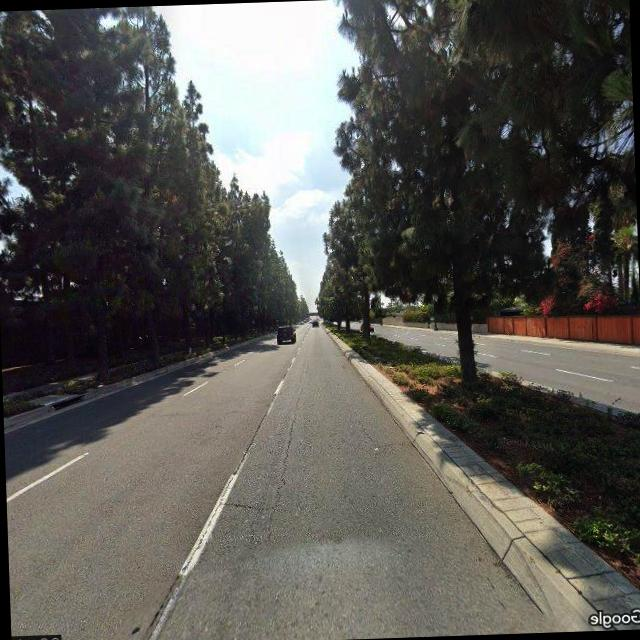crack: (271, 398, 306, 518), (220, 496, 276, 512)
